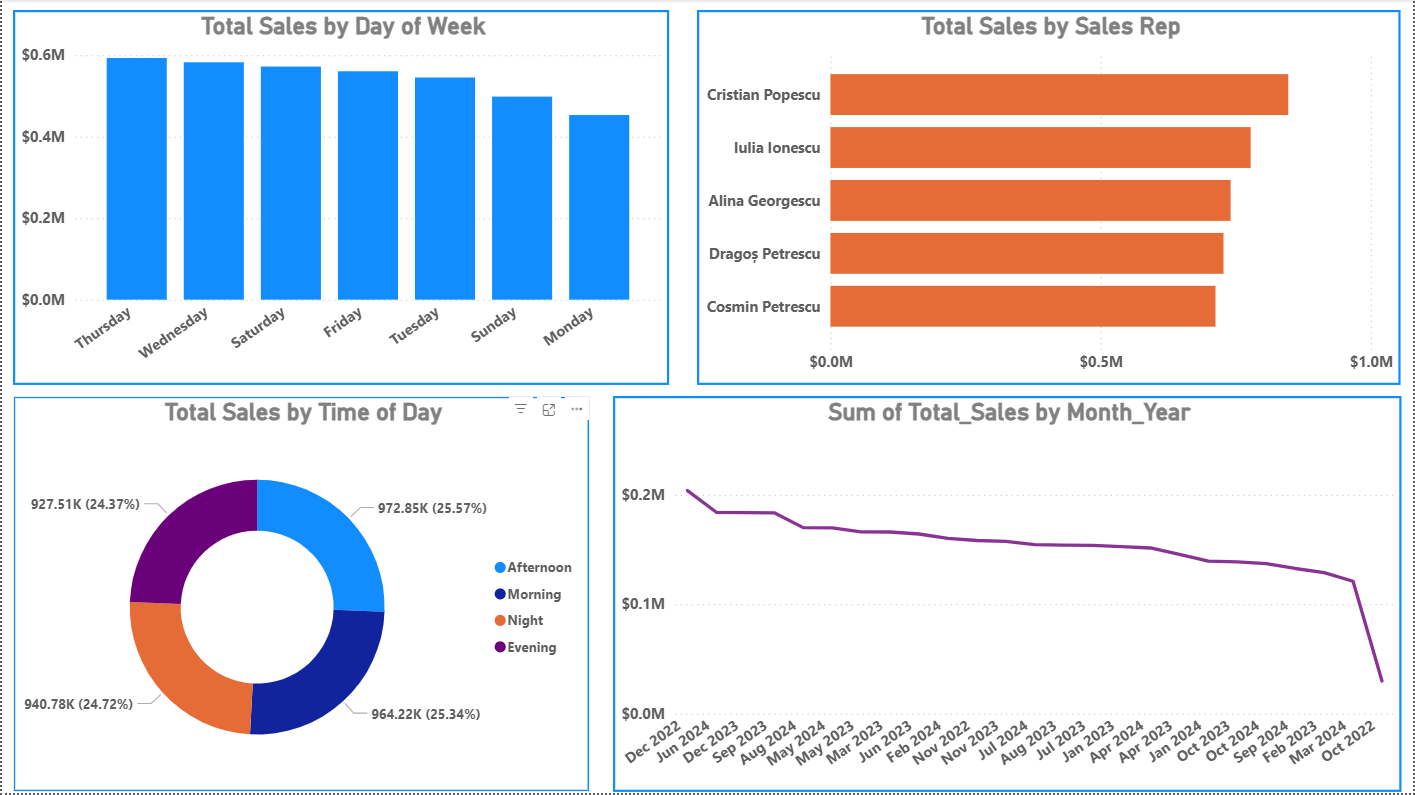

This screenshot's page, from the dashboard's own definition file:
{"tool":"powerbi","page":{"name":"Dashboard 1","canvas":[1280,720],"ordinal":1},"visuals":[{"type":"clusteredColumnChart","title":"Total Sales by Day of Week","fields":{"Category":["Orders.Day_of_Week"],"Y":["Sum(Orders.Total_Sales)"]},"box":[10.3,10.3,595.2,339.7],"z":0},{"type":"donutChart","title":"Total Sales by Time of Day","fields":{"Y":["Orders.Total Sales"],"Category":["Orders.Time_of_Day"]},"box":[10.3,360.4,522.8,358.9],"z":1},{"type":"clusteredBarChart","title":"Total Sales by Sales Rep","fields":{"Category":["Orders.Sales_Rep_Name"],"Y":["Sum(Orders.Total_Sales)"]},"box":[630.6,10.3,638,339.7],"z":2},{"type":"lineChart","fields":{"Category":["Orders.Month_Year"],"Y":["Sum(Orders.Total_Sales)"]},"box":[553.8,360.4,714.8,358.9],"z":3}]}

Visuals, with their boxes in screenshot pixels (x1, y1, x2, y2), scaled from the page's 1280x720 canvas onto the 1415x795 screenshot:
"Total Sales by Day of Week" clusteredColumnChart: left=11, top=11, right=669, bottom=386
"Total Sales by Time of Day" donutChart: left=11, top=398, right=589, bottom=794
"Total Sales by Sales Rep" clusteredBarChart: left=697, top=11, right=1402, bottom=386
lineChart - Orders.Month_Year x Sum(Orders.Total_Sales): left=612, top=398, right=1402, bottom=794
